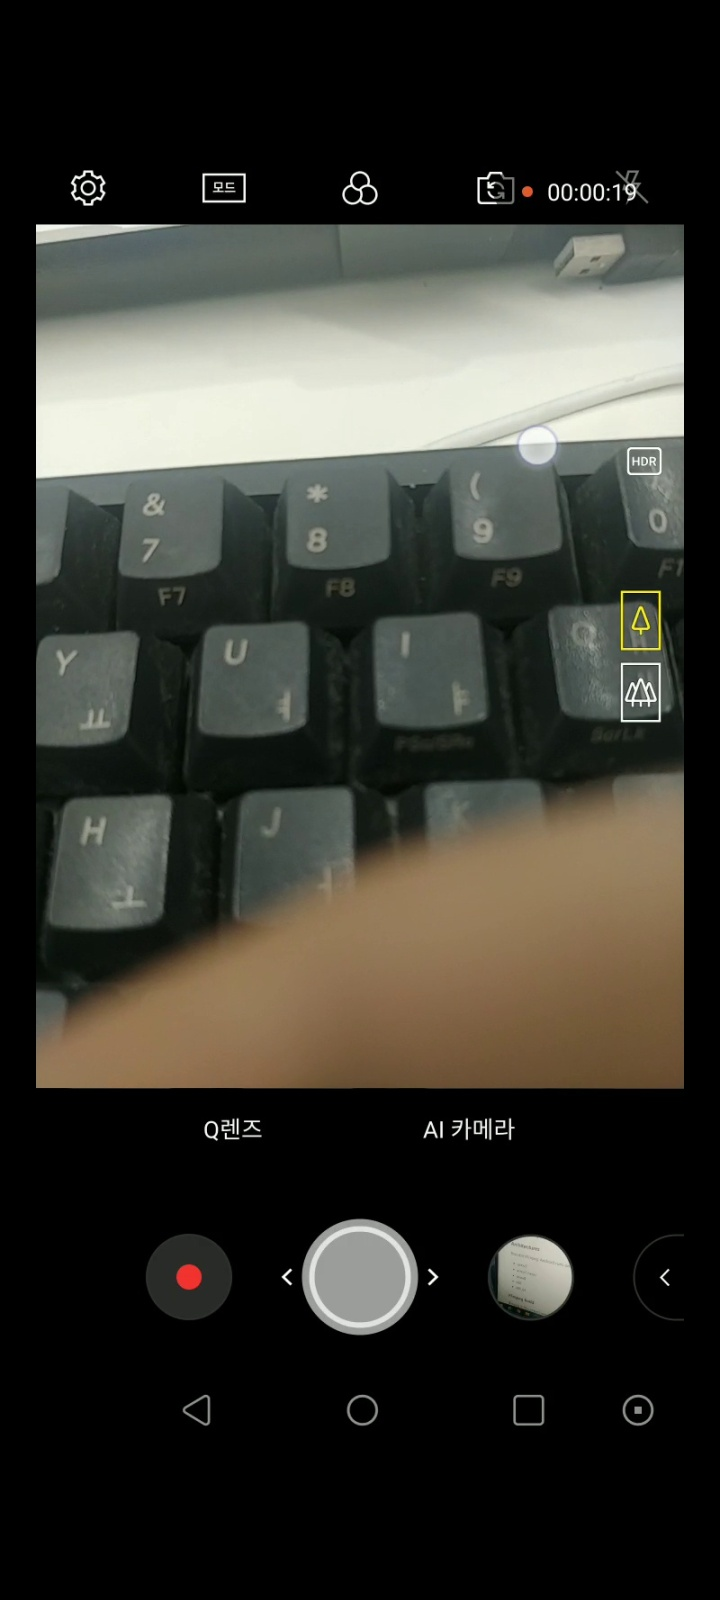Cursor: (515, 423, 560, 468)
